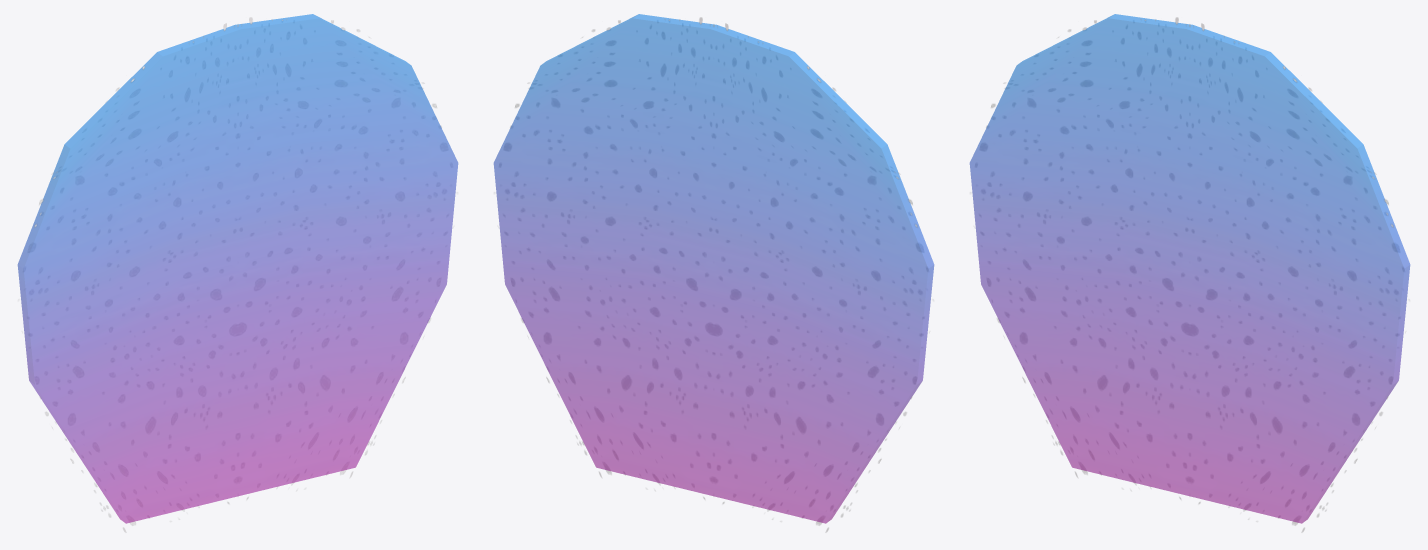
File: DoorPlasma_01.glb
The picture shows the model from 3 angles, left to right: view 1: azimuth 30°, elevation 25°; view 2: azimuth 150°, elevation 25°; view 3: azimuth 330°, elevation 25°; orthographic projection.
Parts seen in each view (by area): view 1: DoorPlasma_01, DoorPlasma_Dots_01; view 2: DoorPlasma_01, DoorPlasma_Dots_01; view 3: DoorPlasma_01, DoorPlasma_Dots_01.
Part boxes in pixels (left/top/right/bottom): DoorPlasma_01: left=17, top=14, right=458, bottom=523; DoorPlasma_Dots_01: left=18, top=17, right=457, bottom=532; DoorPlasma_01: left=493, top=14, right=934, bottom=523; DoorPlasma_Dots_01: left=494, top=17, right=933, bottom=532; DoorPlasma_01: left=969, top=14, right=1410, bottom=523; DoorPlasma_Dots_01: left=970, top=17, right=1409, bottom=532.
Bounding box in the file's own units: 5.19 × 5.43 × 0.1208.
Materials: 2 (2 with a texture image).
